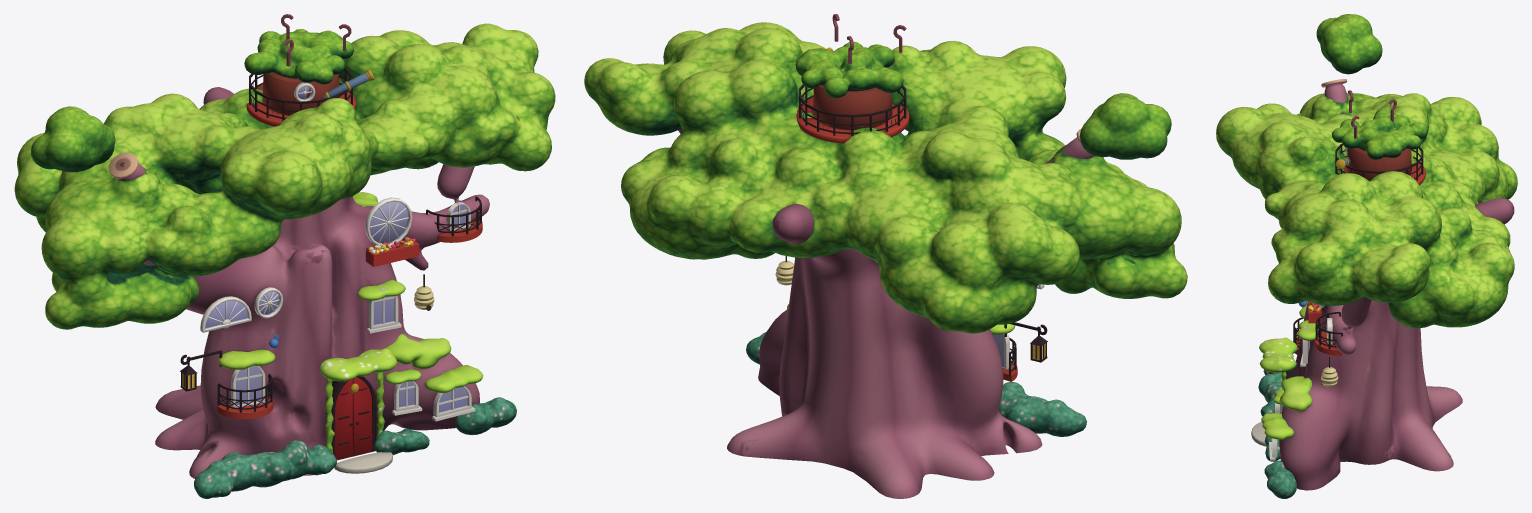
File: golden_oak_library.glb
3 renders of one model, left to right at view 1: azimuth 30°, elevation 25°; view 2: azimuth 150°, elevation 25°; view 3: azimuth 270°, elevation 25°, orthographic. The views are drawn at different scales.
Visible parts, largest first — view 1: golden_oak_library; view 2: golden_oak_library; view 3: golden_oak_library.
Part boxes in pixels (<box>): golden_oak_library: <box>14,14,555,498</box>; golden_oak_library: <box>584,14,1187,498</box>; golden_oak_library: <box>1216,14,1517,498</box>.
Bounding box in the file's own units: 19.82 × 14.25 × 11.53.
Materials: 1 (1 with a texture image).
